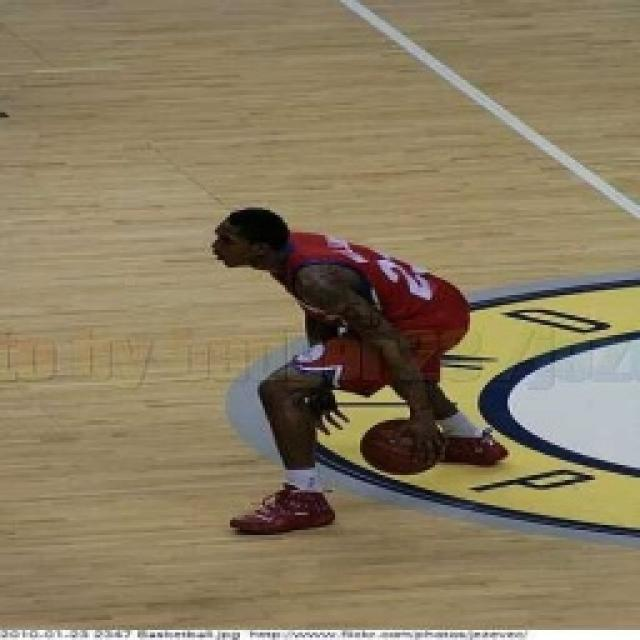rim: (356, 408, 454, 488)
